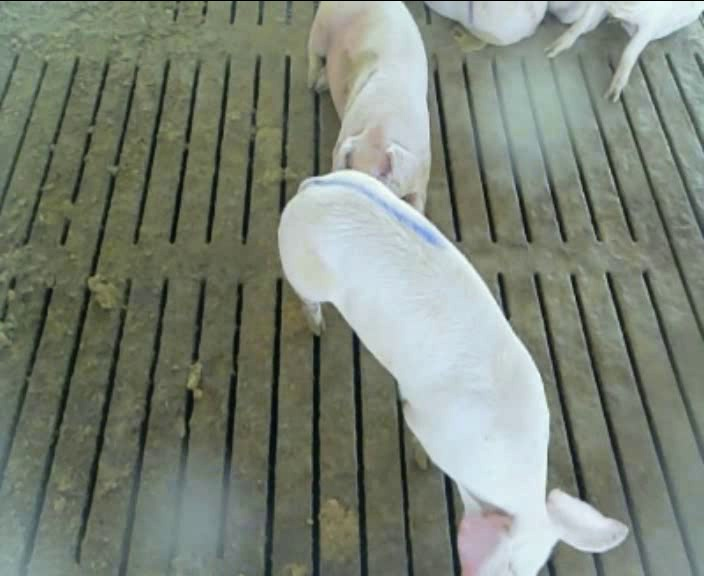pig: (279, 170, 627, 573), (308, 2, 430, 210)
